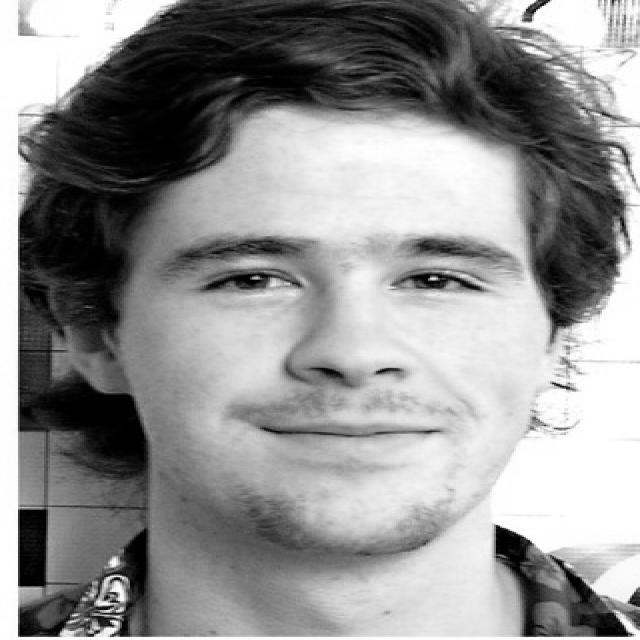without_mask: (110, 105, 564, 553)
